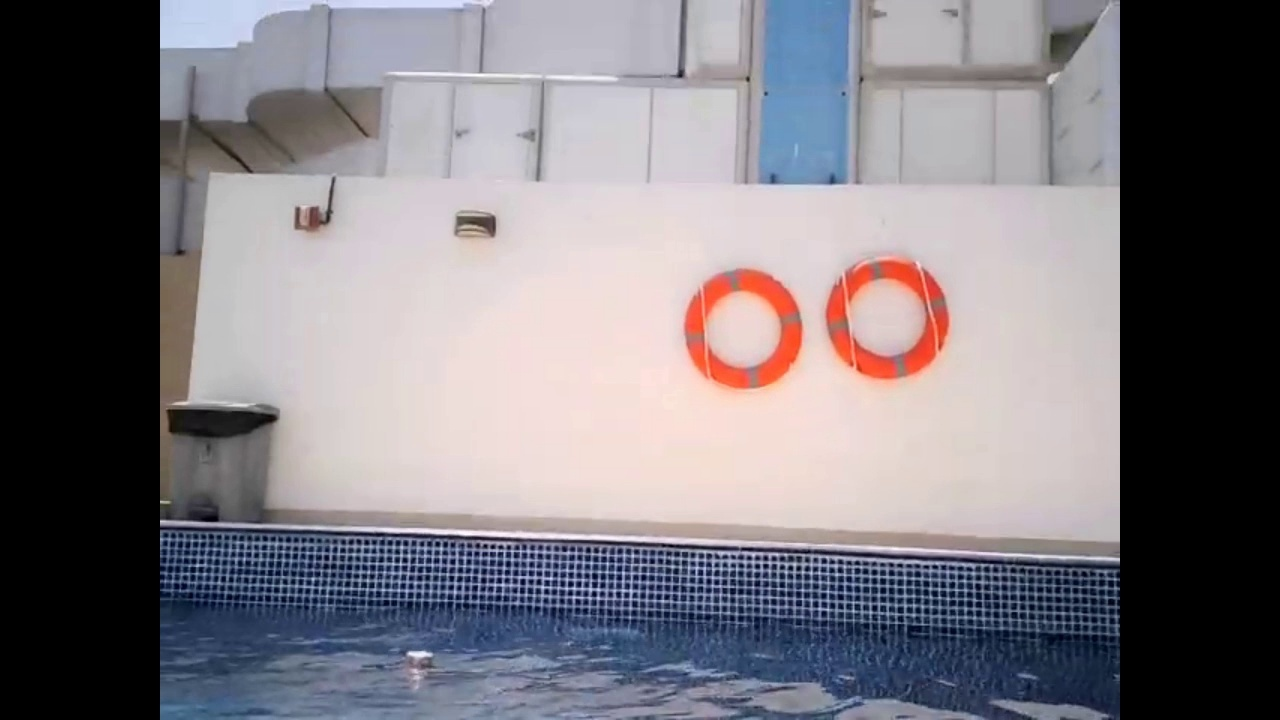debris: (398, 646, 439, 686)
